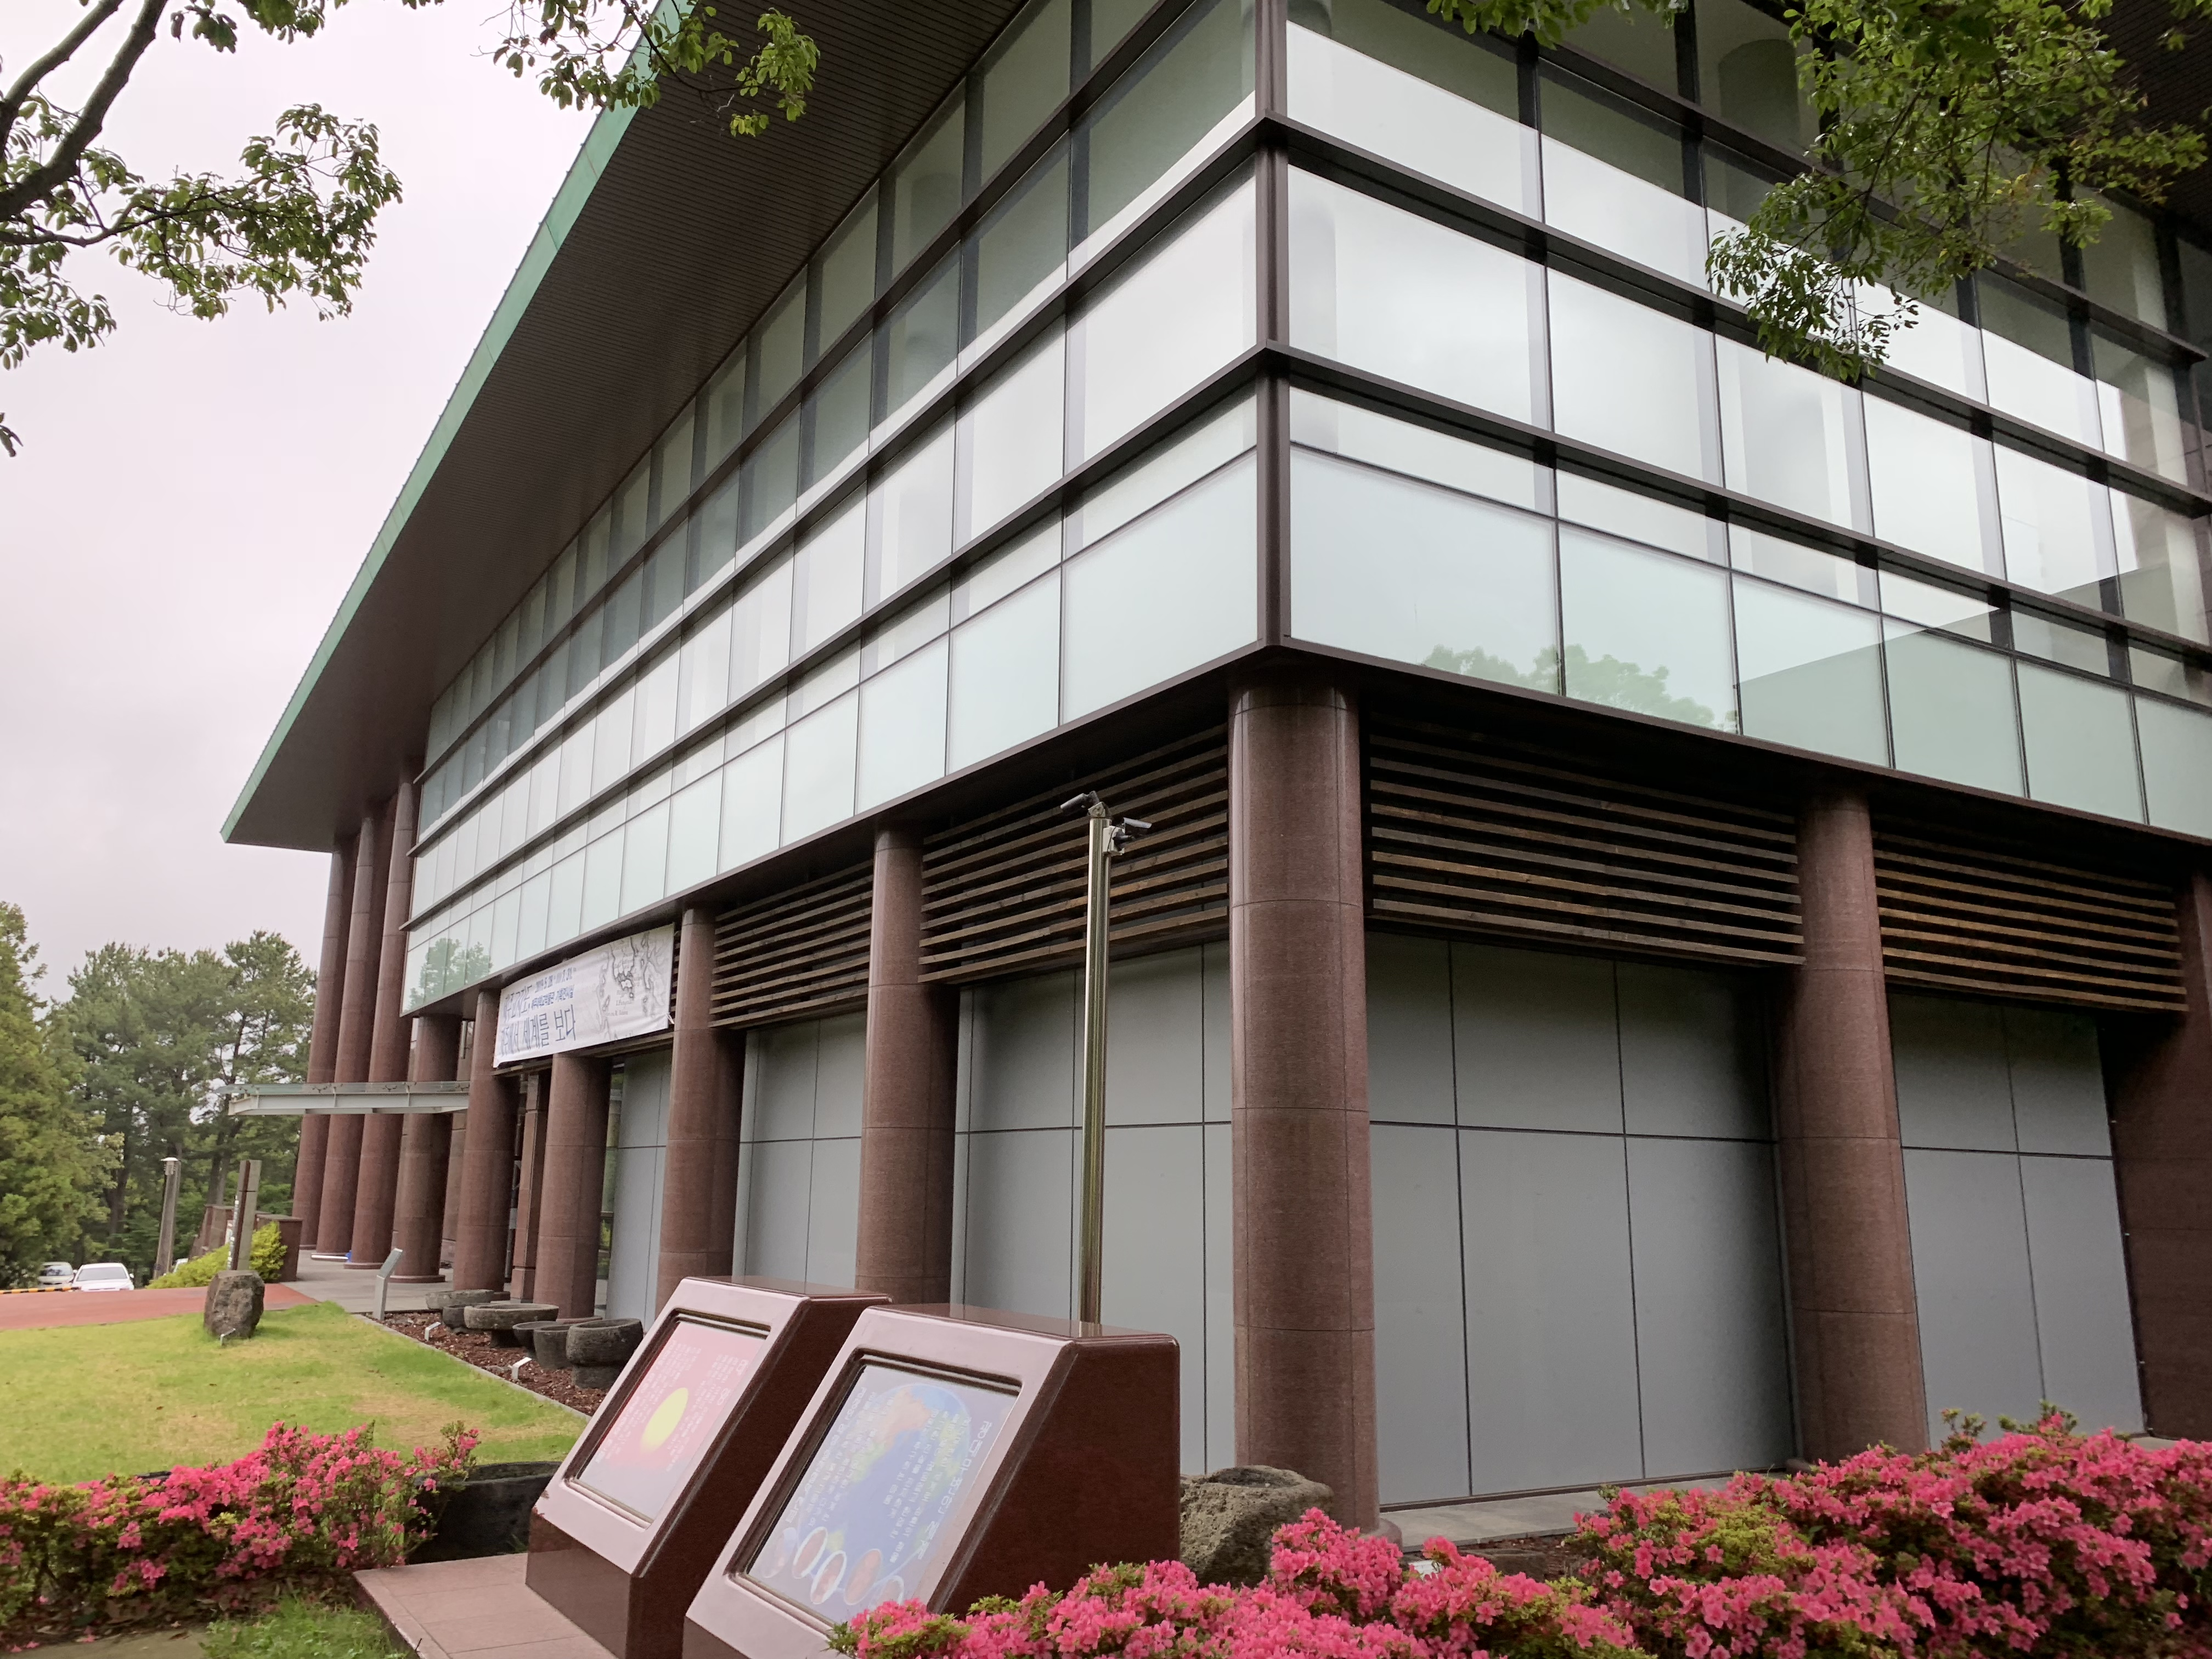Museum: (369, 108, 2085, 1234)
